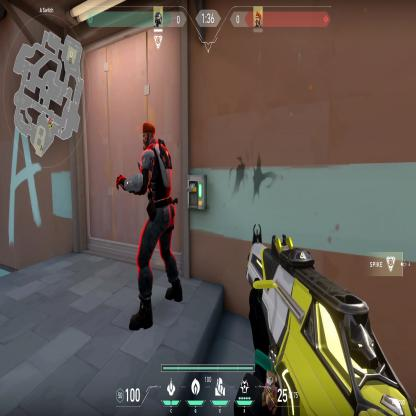enemy: (113, 120, 184, 333)
